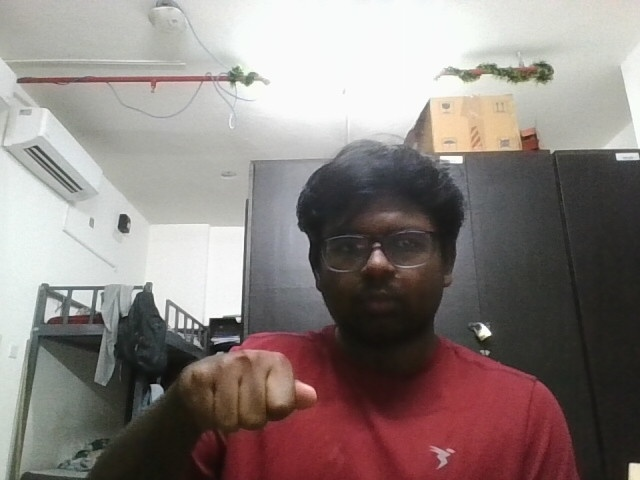Yes: (163, 334, 328, 442)
